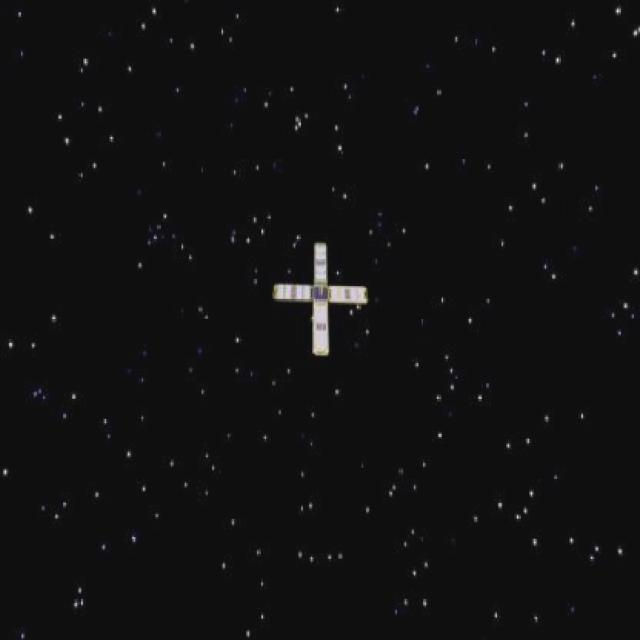satellite: (262, 233, 389, 379)
